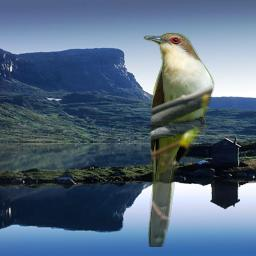Cuckoo: (143, 32, 216, 247)
